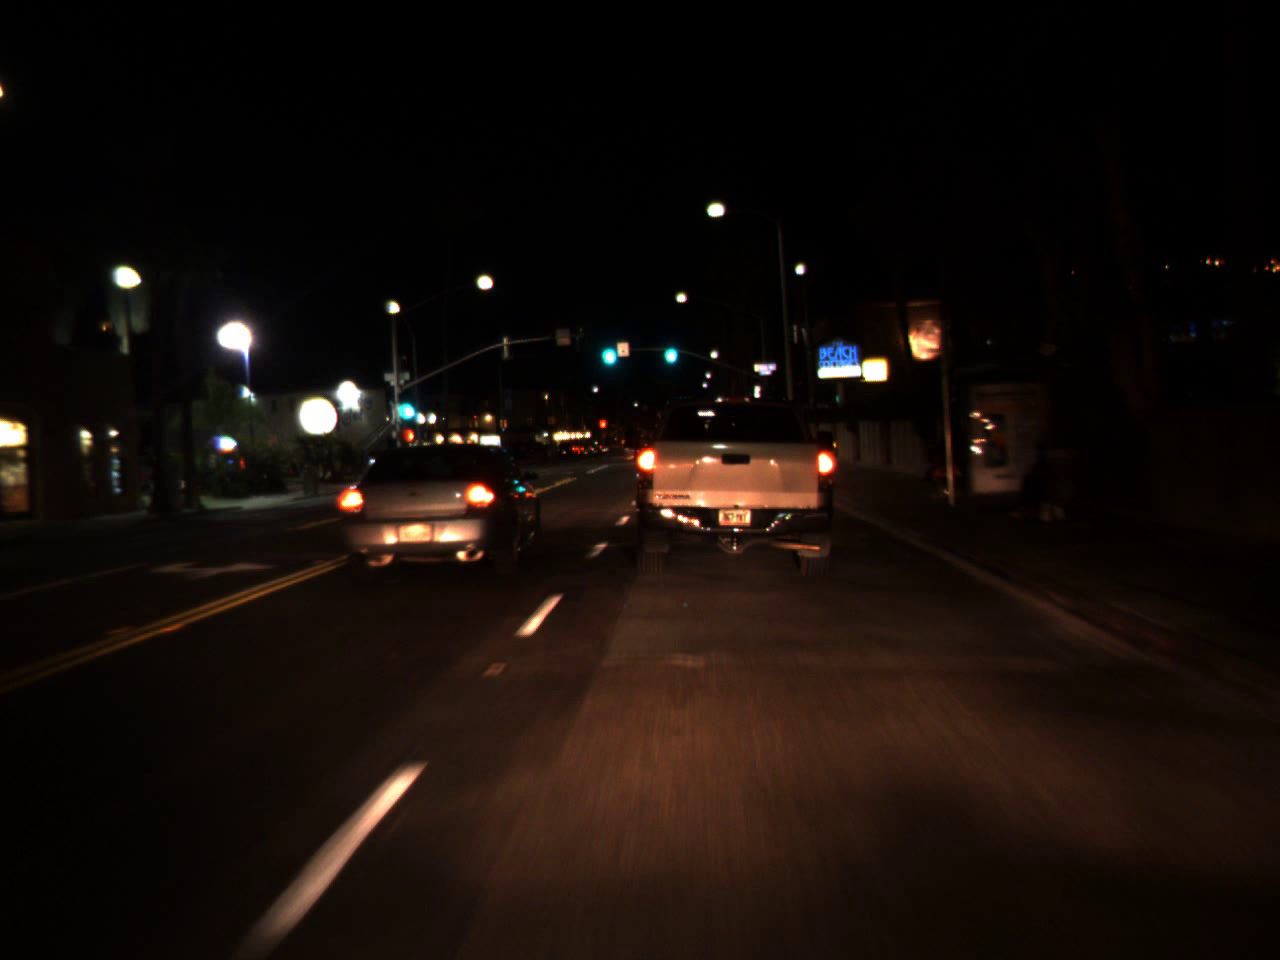go: (390, 381, 418, 426), (596, 329, 619, 371), (660, 329, 679, 368)
